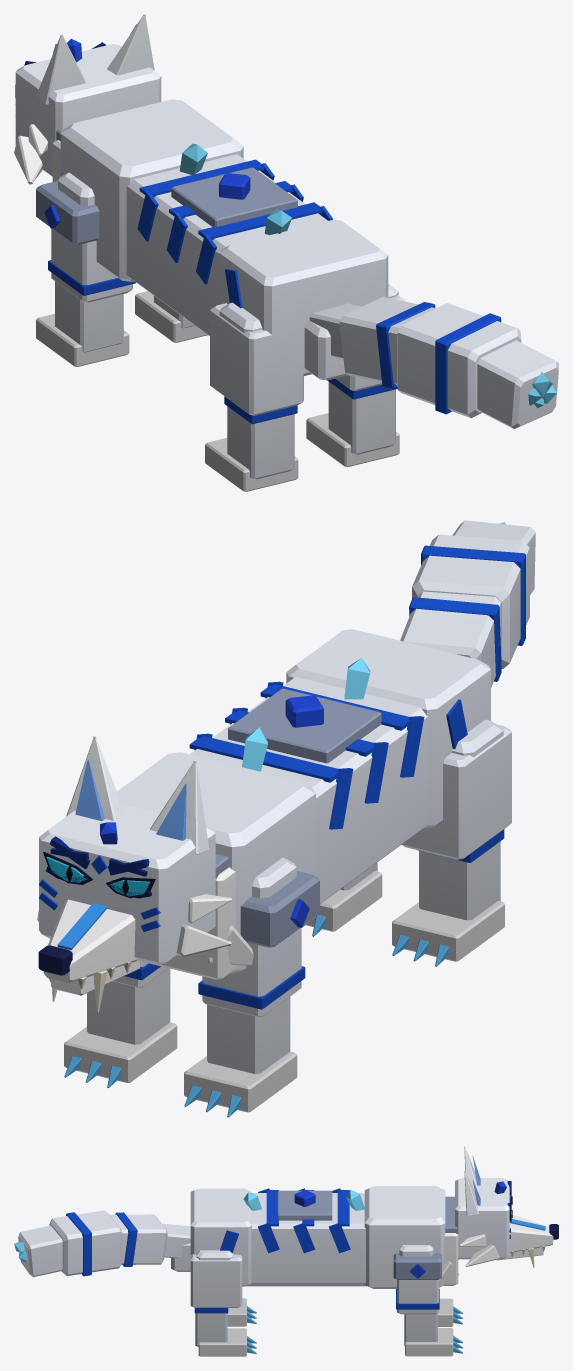
The model's file is keeper_ice_fang.fbx.
The picture shows the model from 3 angles, top to bottom: view 1: azimuth 30°, elevation 25°; view 2: azimuth 150°, elevation 25°; view 3: azimuth 270°, elevation 25°; orthographic projection. The views are drawn at different scales.
Parts seen in each view (by area): view 1: Body, Tail, LeftBackLeg, Head, LeftFrontLeg, RightBackLeg, RightFrontLeg; view 2: Body, Head, LeftFrontLeg, LeftBackLeg, Tail, RightFrontLeg, RightBackLeg, Head_Face_Chase, Head_Face_Asleep, Head_Eyes_Chase, Jaw; view 3: Body, Tail, Head, RightBackLeg, RightFrontLeg, LeftFrontLeg, LeftBackLeg.
Part boxes in pixels (<box>): Body: <box>52,99,388,375</box>; Tail: <box>304,297,558,428</box>; LeftBackLeg: <box>205,302,303,491</box>; Head: <box>14,14,161,184</box>; LeftFrontLeg: <box>36,172,135,366</box>; RightBackLeg: <box>306,284,405,467</box>; RightFrontLeg: <box>135,291,207,342</box>; Body: <box>117,629,490,979</box>; Head: <box>37,736,231,1012</box>; LeftFrontLeg: <box>184,857,319,1117</box>; LeftBackLeg: <box>392,719,511,966</box>; Tail: <box>400,520,535,687</box>; RightFrontLeg: <box>64,961,177,1087</box>; RightBackLeg: <box>305,862,382,936</box>; Head_Face_Chase: <box>43,836,155,989</box>; Head_Face_Asleep: <box>46,848,151,898</box>; Head_Eyes_Chase: <box>46,856,149,896</box>; Jaw: <box>51,960,140,995</box>; Body: <box>190,1186,458,1288</box>; Tail: <box>14,1210,190,1277</box>; Head: <box>455,1146,558,1267</box>; RightBackLeg: <box>190,1250,256,1356</box>; RightFrontLeg: <box>393,1245,463,1356</box>; LeftFrontLeg: <box>438,1298,463,1326</box>; LeftBackLeg: <box>227,1298,256,1326</box>.
Bounding box in the file's own units: 823 × 1201 × 3380.
Materials: 2 (1 with a texture image).
